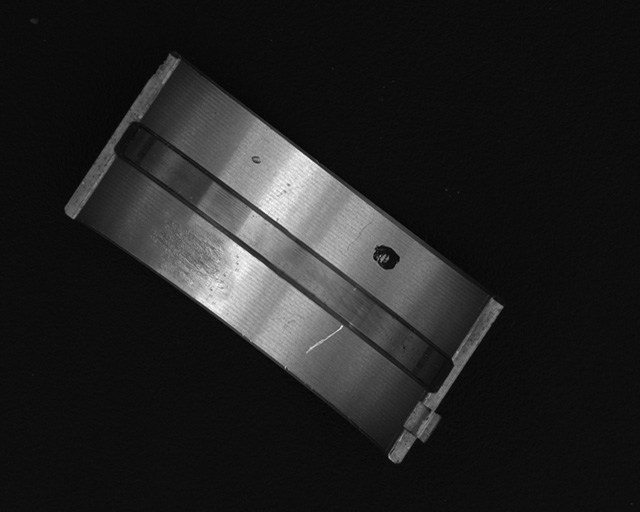blot: (371, 243, 401, 273)
bruise: (250, 155, 262, 167)
gap: (114, 126, 454, 393)
nick: (304, 323, 343, 353), (345, 219, 373, 252)
scratch: (147, 222, 237, 307)
